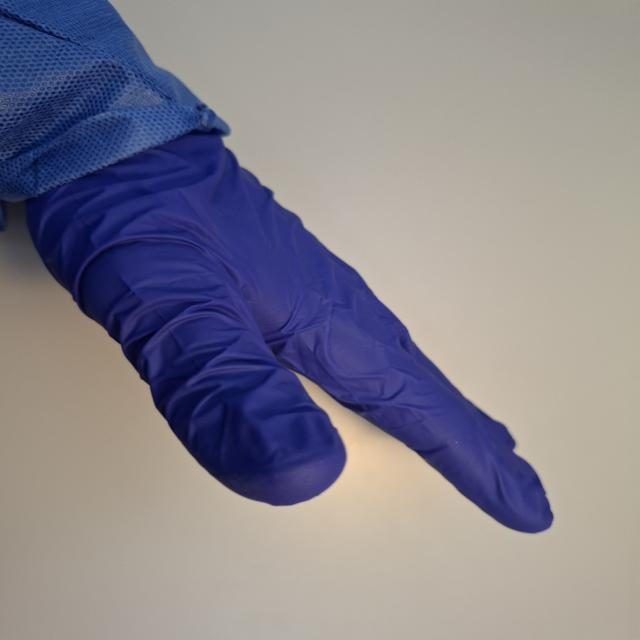glove_on: (19, 108, 557, 537)
